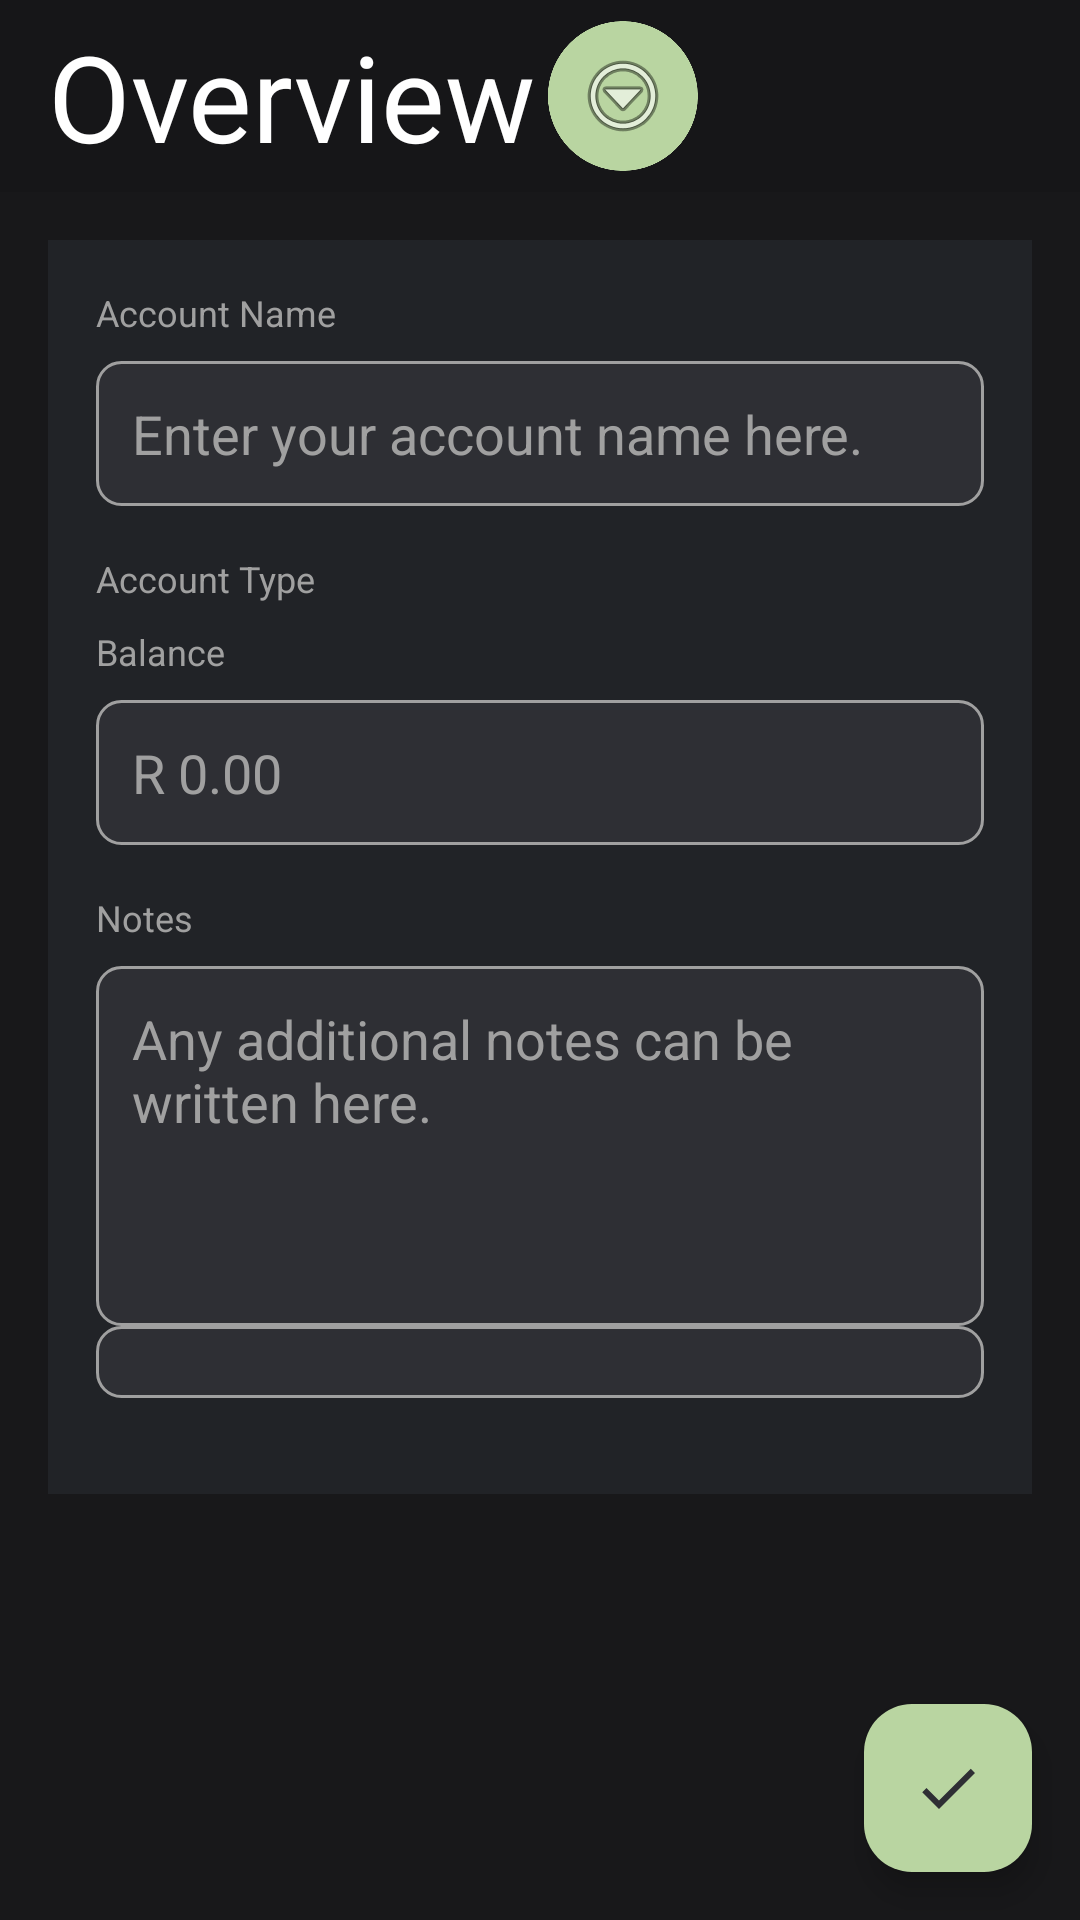

Named icons in this screenshot (1080 x 1920) and their bounding boxes, Rect(x1, y1, x2, y2):
Menu button: Rect(548, 21, 698, 171)
Save: Rect(864, 1704, 1032, 1872)
